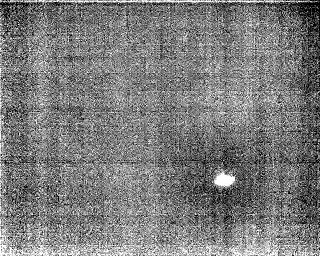AIRPLANE: (210, 169, 237, 191)
